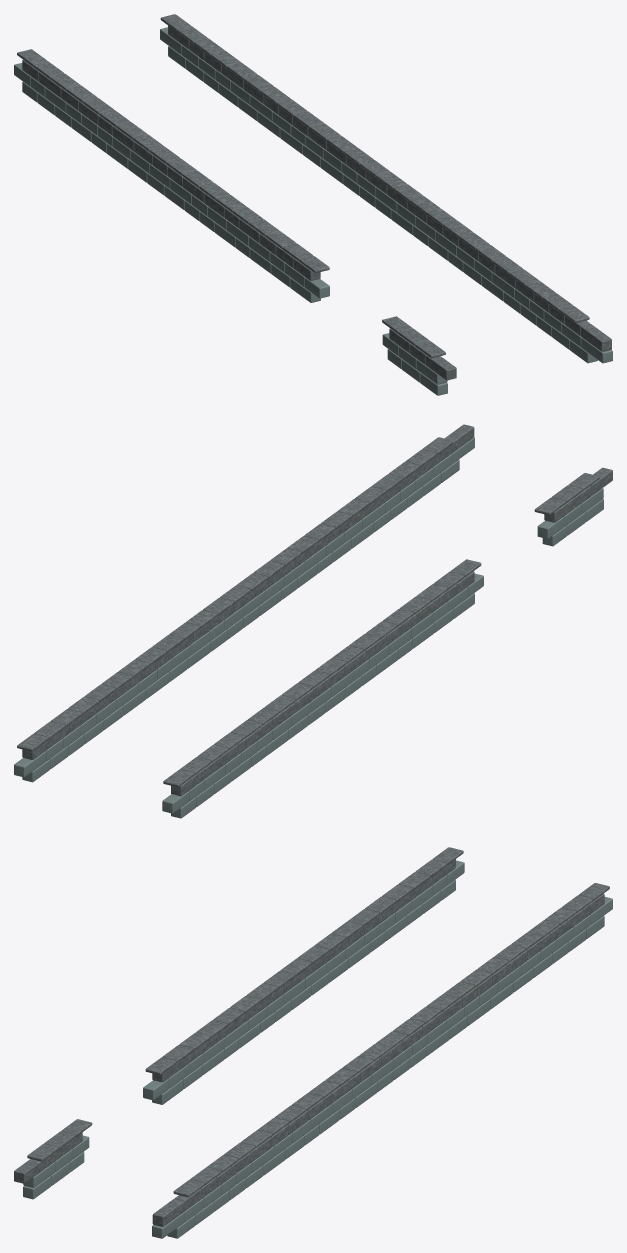
The model's file is bank-layout-p2-v2.glb.
3 renders of one model, top to bottom at view 1: azimuth 30°, elevation 25°; view 2: azimuth 150°, elevation 25°; view 3: azimuth 330°, elevation 25°, orthographic.
Parts seen in each view (by area): view 1: bank-layout-p2-v2; view 2: bank-layout-p2-v2; view 3: bank-layout-p2-v2.
Boxes of the visible parts, box(x1,y1,x2,y2) form: bank-layout-p2-v2: box(14, 14, 612, 395); bank-layout-p2-v2: box(14, 424, 612, 818); bank-layout-p2-v2: box(14, 847, 612, 1238).
Bounding box in the file's own units: 4.42 × 0.9845 × 21.37.
3 materials, 2 textured.
